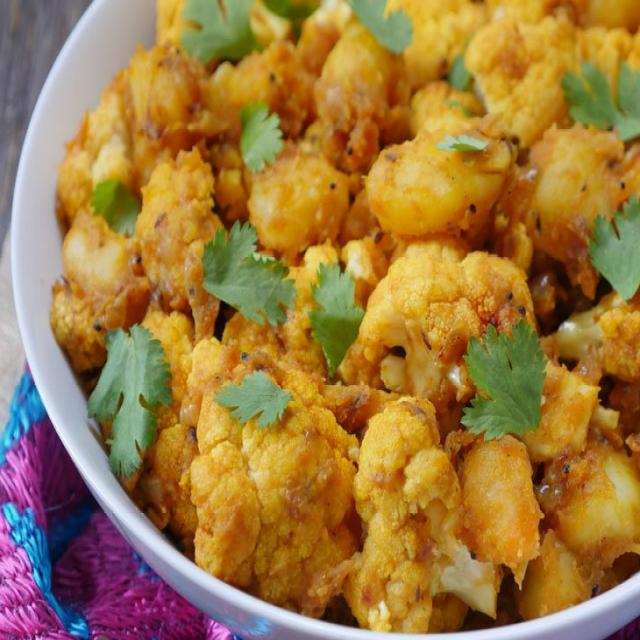Aloo Gobi: (188, 92, 640, 588)
